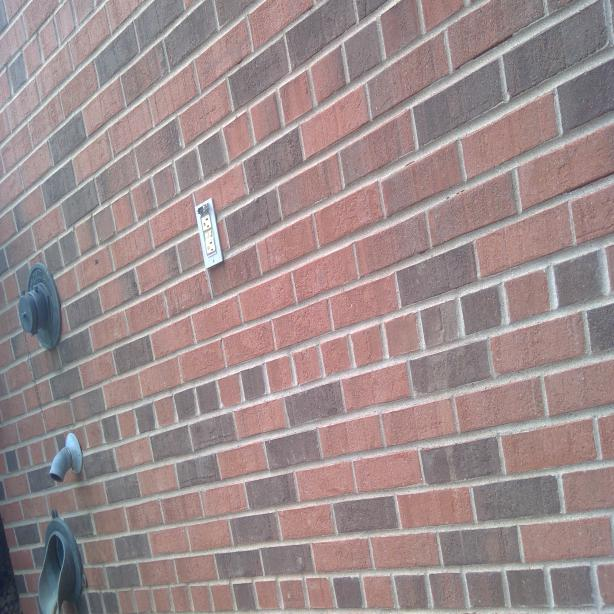typeb: (204, 239, 218, 253), (200, 214, 212, 230)
